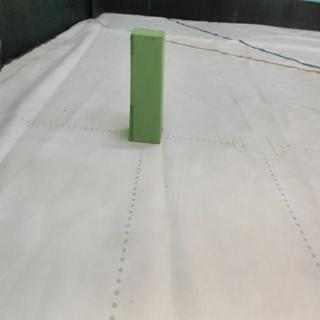greenbox: (129, 25, 166, 147)
